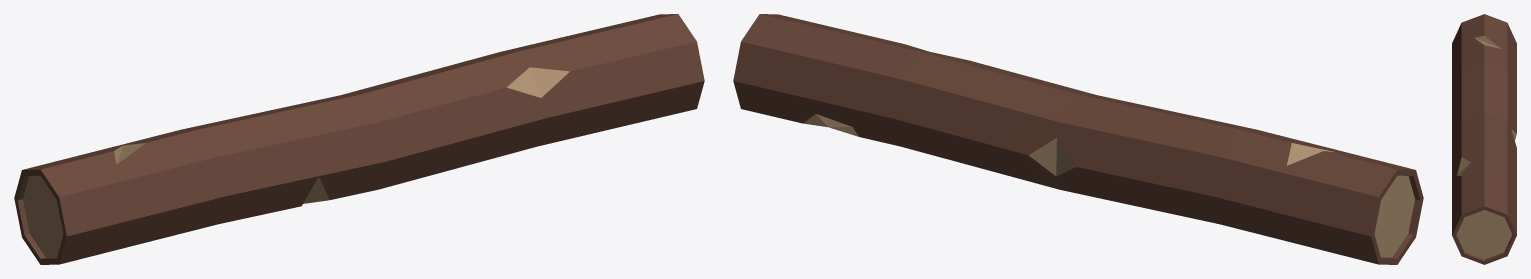
Rendered from Log.fbx.
3 renders of one model, left to right at view 1: azimuth 30°, elevation 25°; view 2: azimuth 150°, elevation 25°; view 3: azimuth 270°, elevation 25°, orthographic. The views are drawn at different scales.
Visible parts, largest first — view 1: Log; view 2: Log; view 3: Log.
Part boxes in pixels (x1,y1,x2,y2): Log: (14,14,704,264); Log: (733,14,1423,264); Log: (1452,14,1516,264).
Bounding box in the file's own units: 2.8 × 0.4188 × 0.4.
